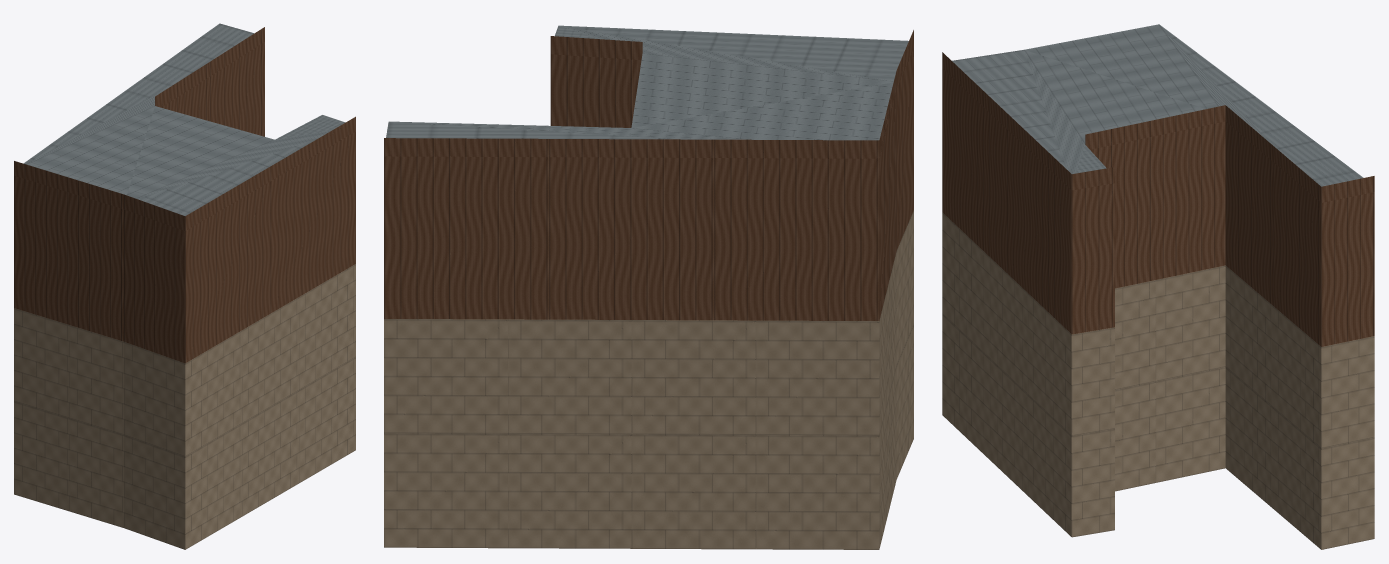
File: bld_c-18_18_509.gltf
3 renders of one model, left to right at view 1: azimuth 30°, elevation 25°; view 2: azimuth 150°, elevation 25°; view 3: azimuth 270°, elevation 25°, orthographic. The views are drawn at different scales.
Parts seen in each view (by area): view 1: bld_c-18_18_509; view 2: bld_c-18_18_509; view 3: bld_c-18_18_509.
Part boxes in pixels (bbox=[...]): bld_c-18_18_509: bbox=[14, 23, 355, 549]; bld_c-18_18_509: bbox=[384, 25, 913, 549]; bld_c-18_18_509: bbox=[942, 24, 1374, 549].
Size of the model in its own units: 8.65 by 8.48 by 9.15.
Materials: 4 (4 with a texture image).
